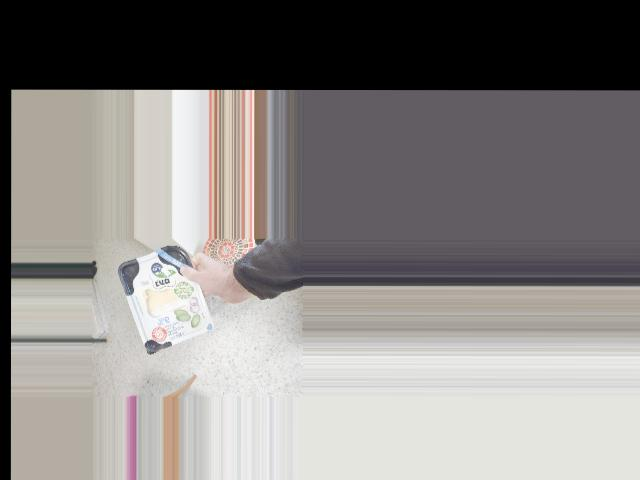cheese: (136, 257, 204, 343)
